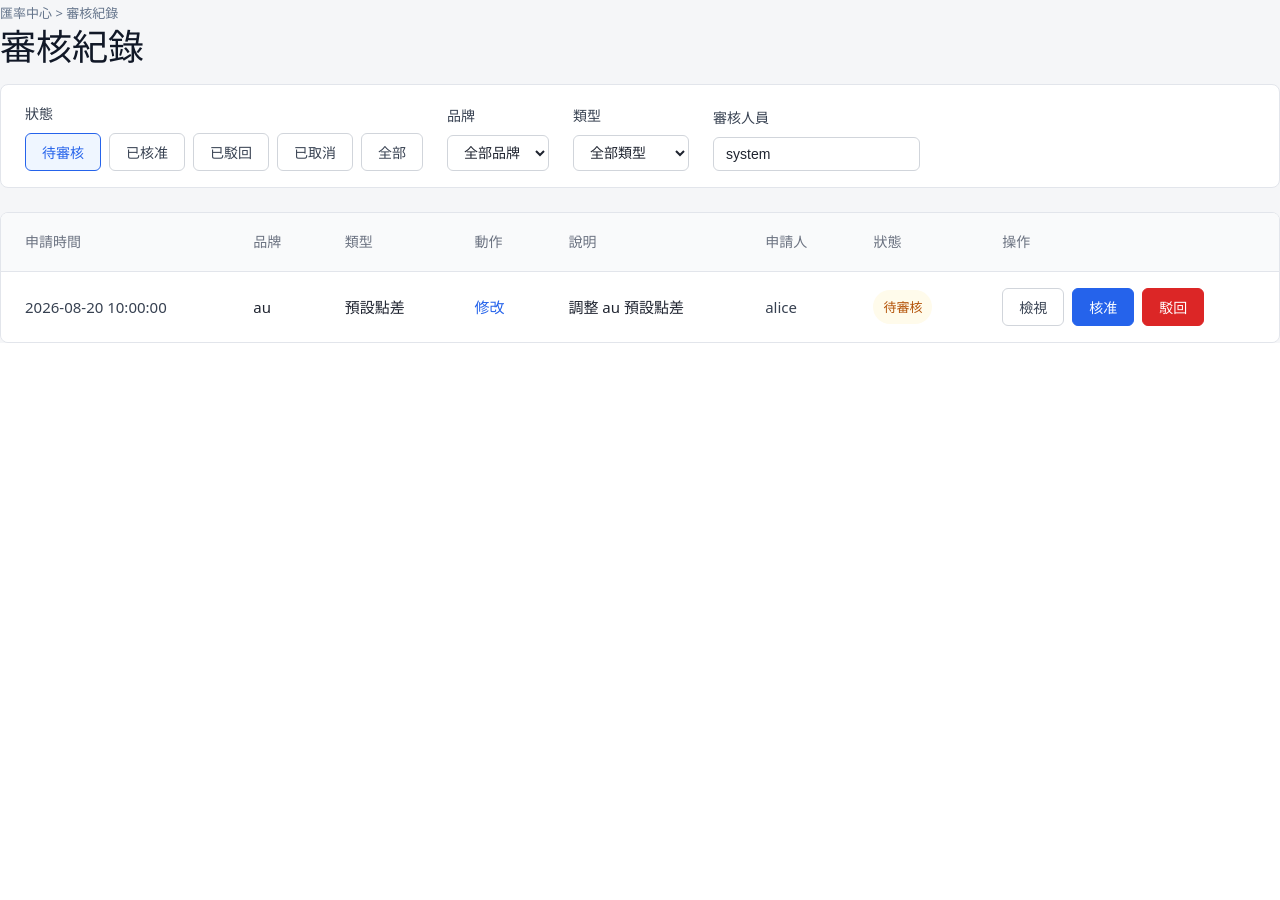
Test: AuditRequestPage › shows a field-by-field diff built from beforeData/afterData in the detail modal
Expected: the text "調整 au 預設點差" is shown, [544,272,741,342]
Click the button "檢視".
click(1033, 307)  # box [1002,288,1064,326]
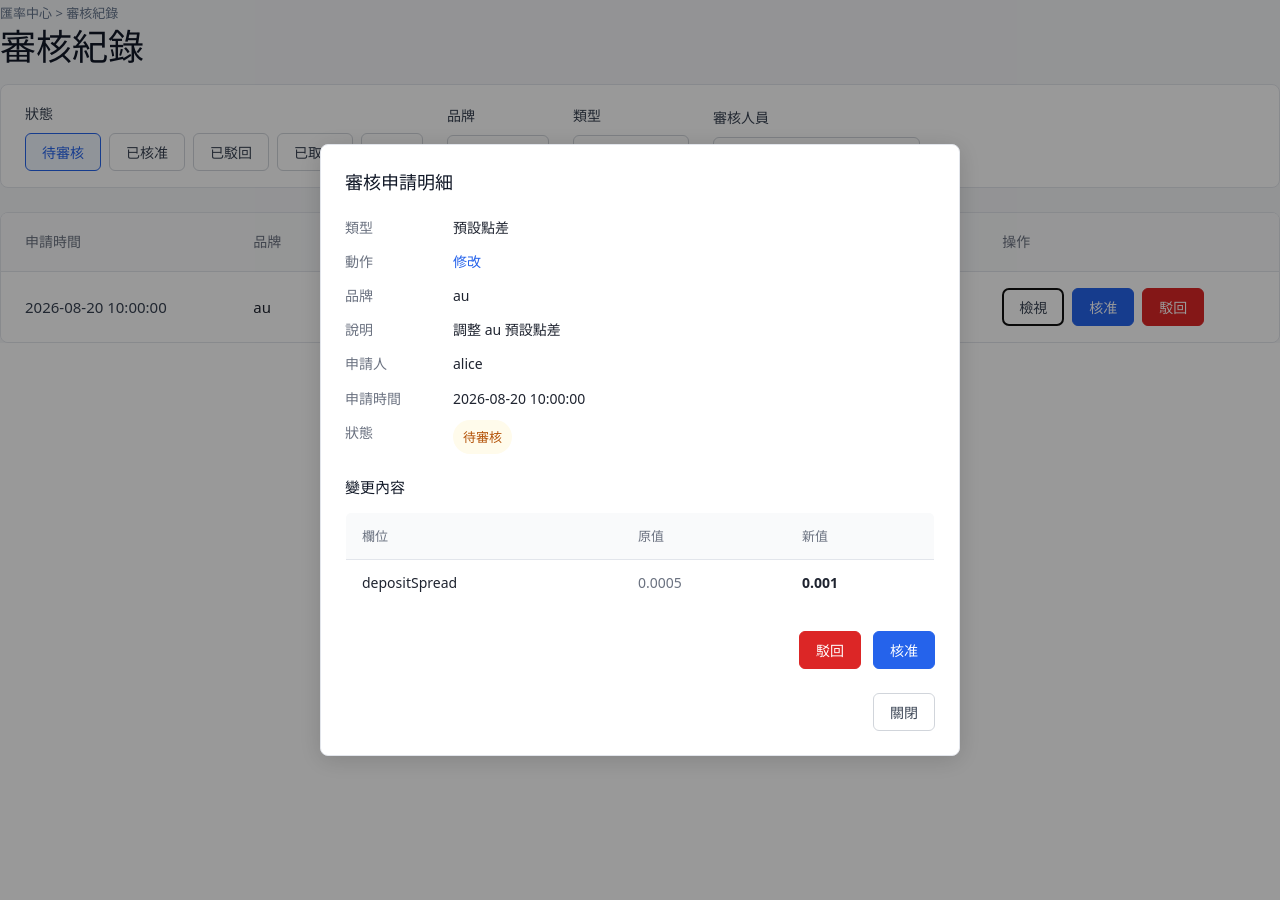
Now the text "depositSpread" is shown, box [346,559,622,606]
Now the text "0.0005" is shown, box [622,559,786,606]
Now the text "0.001" is shown, box [786,559,934,606]
